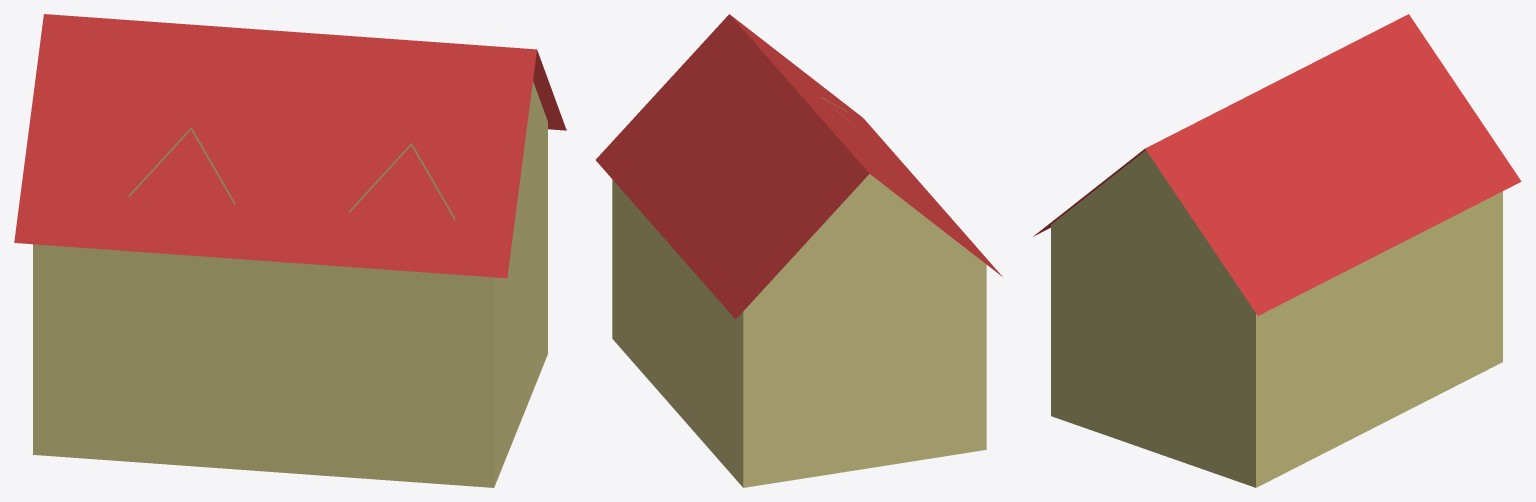
3 views of the same model, side by side, from view 1: azimuth 30°, elevation 25°; view 2: azimuth 150°, elevation 25°; view 3: azimuth 270°, elevation 25° (orthographic). The views are drawn at different scales.
Bounding box in the file's own units: 28.31 × 27.42 × 19.04.
